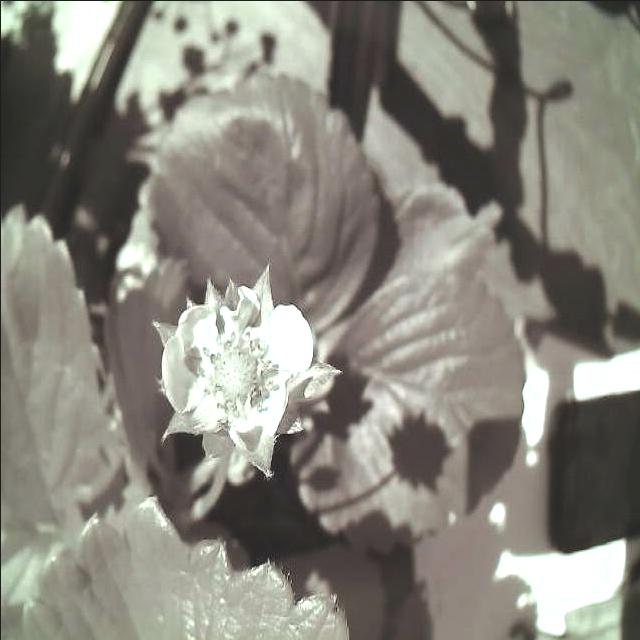flower: (158, 268, 312, 446)
